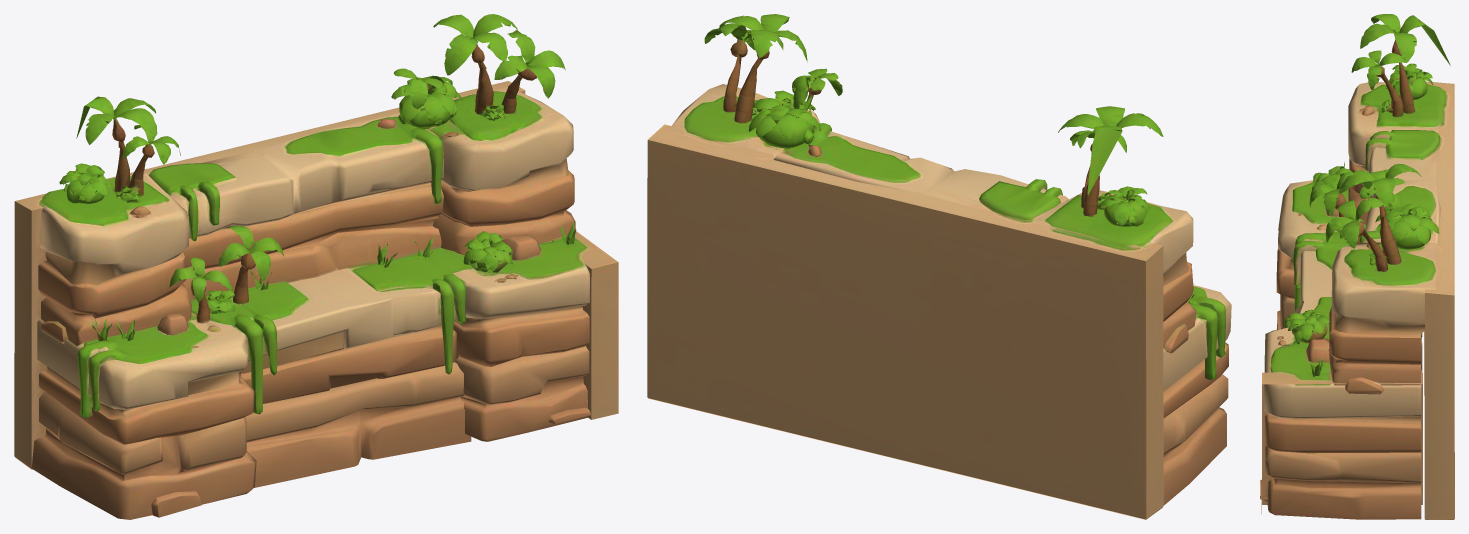
The model's file is playa_acantilado.glb.
The picture shows the model from 3 angles, left to right: view 1: azimuth 30°, elevation 25°; view 2: azimuth 150°, elevation 25°; view 3: azimuth 270°, elevation 25°; orthographic projection. The views are drawn at different scales.
Visible parts, largest first — view 1: tripo_node_fb5738d9-ecd0-4147-b439-c57e1d707318; view 2: tripo_node_fb5738d9-ecd0-4147-b439-c57e1d707318; view 3: tripo_node_fb5738d9-ecd0-4147-b439-c57e1d707318.
Part boxes in pixels (x1,y1,x2,y2): tripo_node_fb5738d9-ecd0-4147-b439-c57e1d707318: (14,14,618,519); tripo_node_fb5738d9-ecd0-4147-b439-c57e1d707318: (647,14,1231,519); tripo_node_fb5738d9-ecd0-4147-b439-c57e1d707318: (1260,14,1454,519).
Bounding box in the file's own units: 0.9984 × 0.6929 × 0.382.
1 material, 1 textured.
